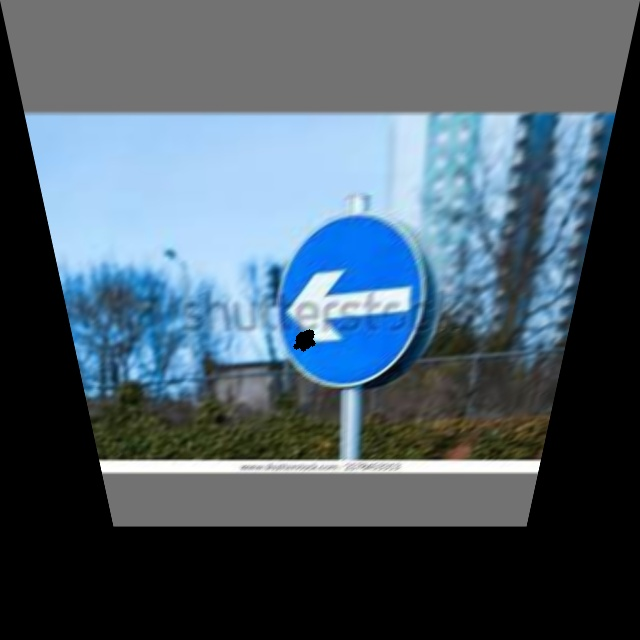Compulsory_Turn_Left: (272, 211, 442, 392)
